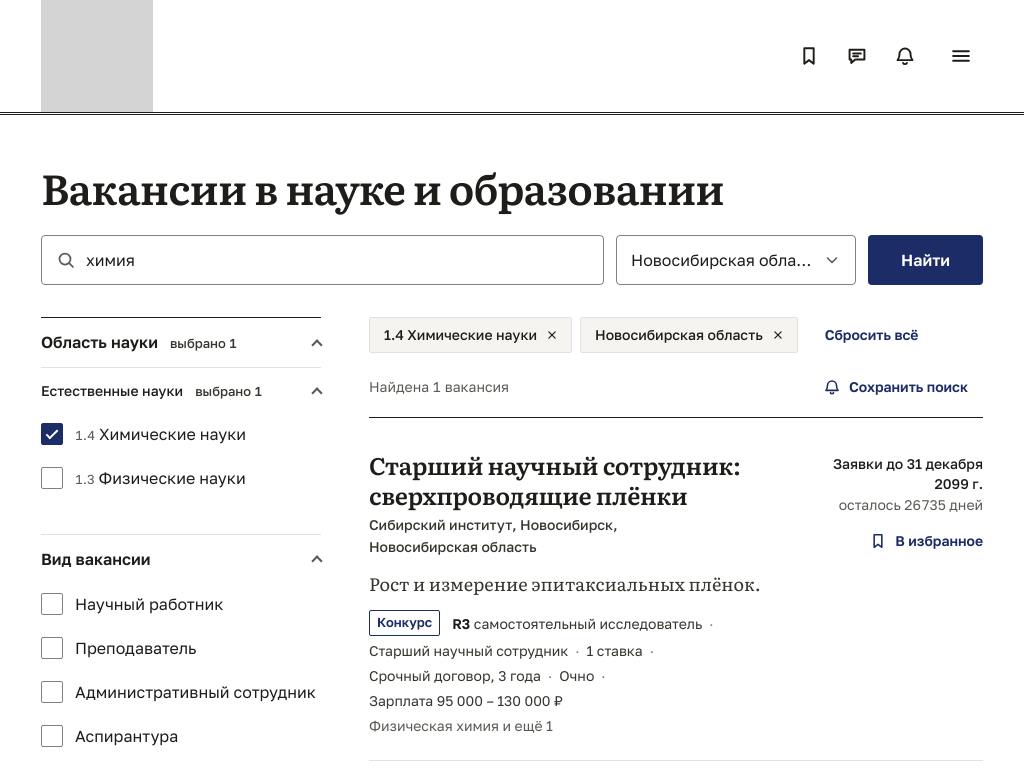
Test case: save search button › opens a window with the conditions, a suggested name and the daily frequency
Click the button "Сохранить поиск".
click(896, 387)  # box [808,369,983,405]
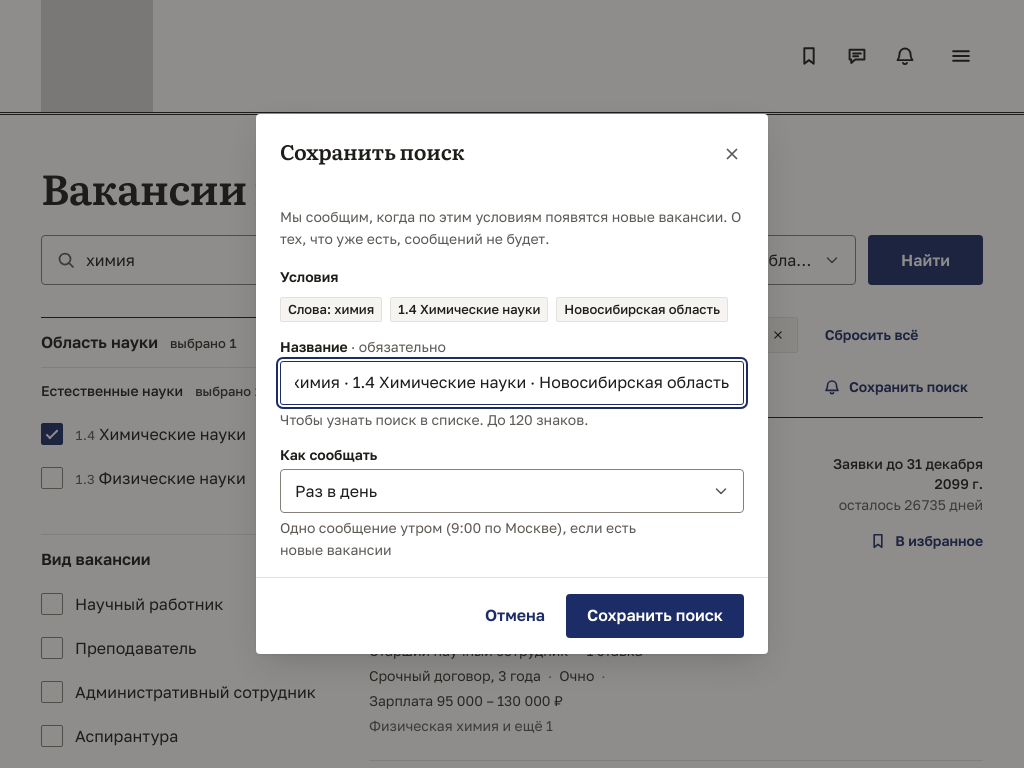
expect the text "Слова: химия" is shown: met, box [280,296,382,322]
expect the text "Новосибирская область" is shown: met, box [556,296,728,322]
expect the text "1.4 Химические науки" is shown: met, box [390,296,548,322]
Click the button "Отмена".
click(515, 616)  # box [472,594,558,638]
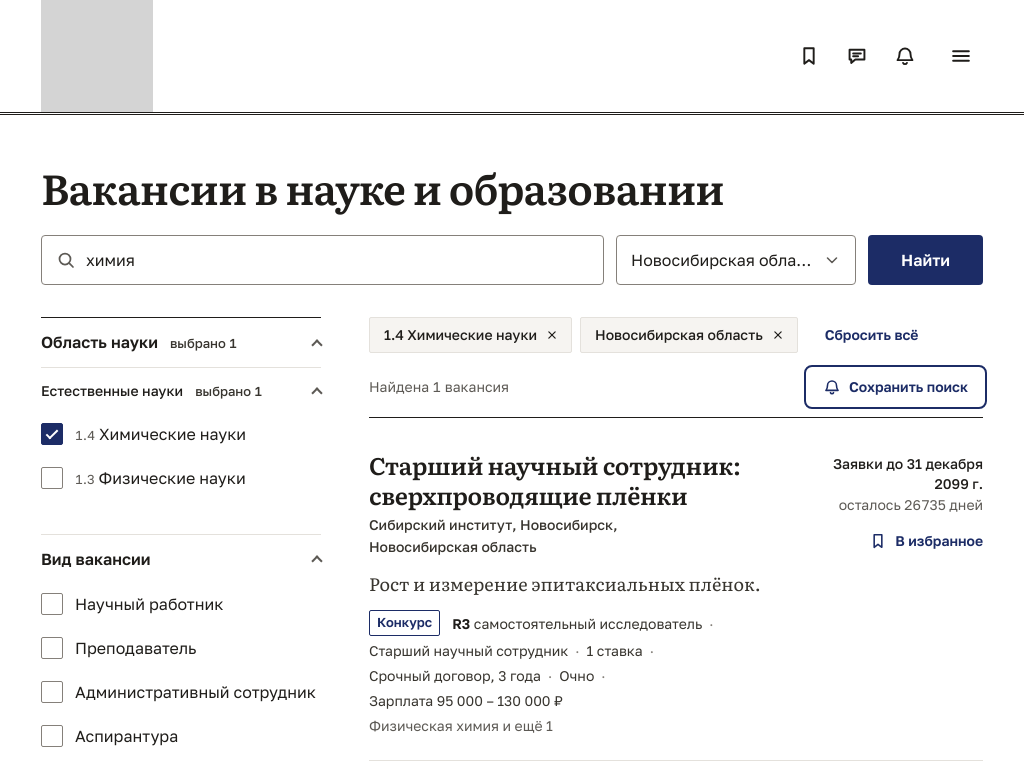
expect the dialog is gone: met
